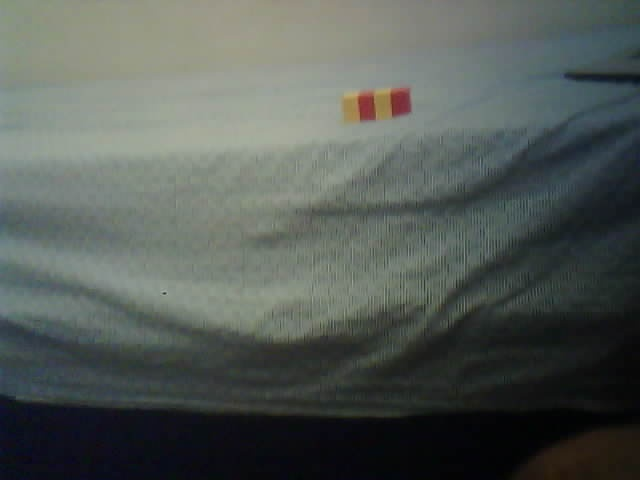lego: (341, 86, 413, 123)
